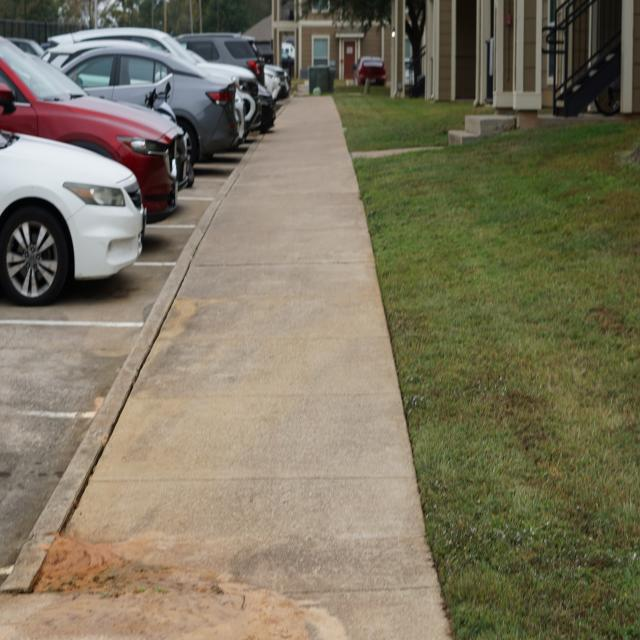Automobile: (0, 38, 185, 222), (0, 131, 145, 306), (51, 37, 241, 164), (49, 27, 205, 65), (178, 34, 260, 74), (210, 63, 258, 106), (257, 84, 275, 132), (264, 65, 280, 100), (246, 107, 261, 124)
Obstacle: (308, 66, 335, 94)
Road: (0, 159, 238, 569)
Sidewalk: (70, 97, 447, 638)
